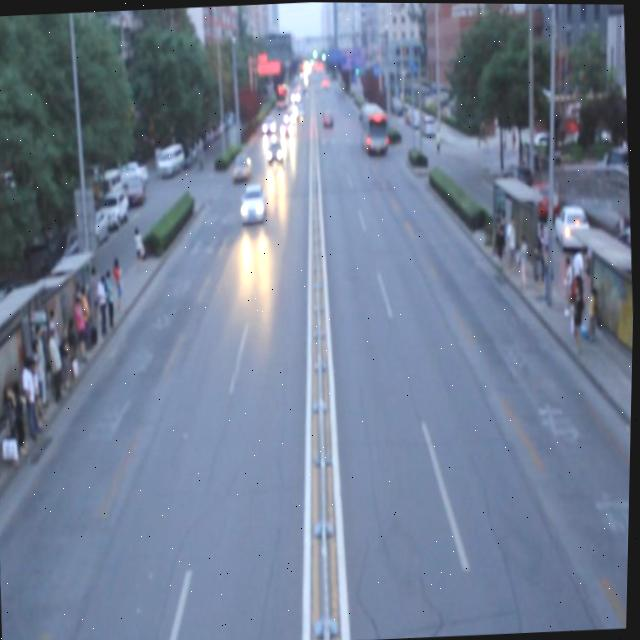car: (240, 183, 265, 222), (232, 151, 251, 177), (266, 139, 284, 161)
van: (356, 103, 389, 152)
